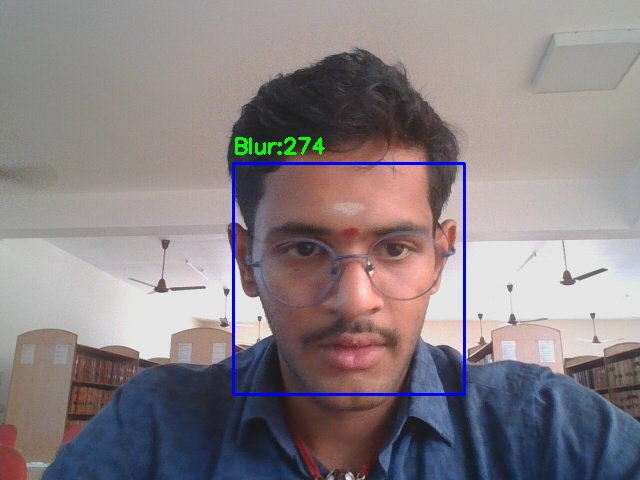real: (233, 163, 464, 394)
